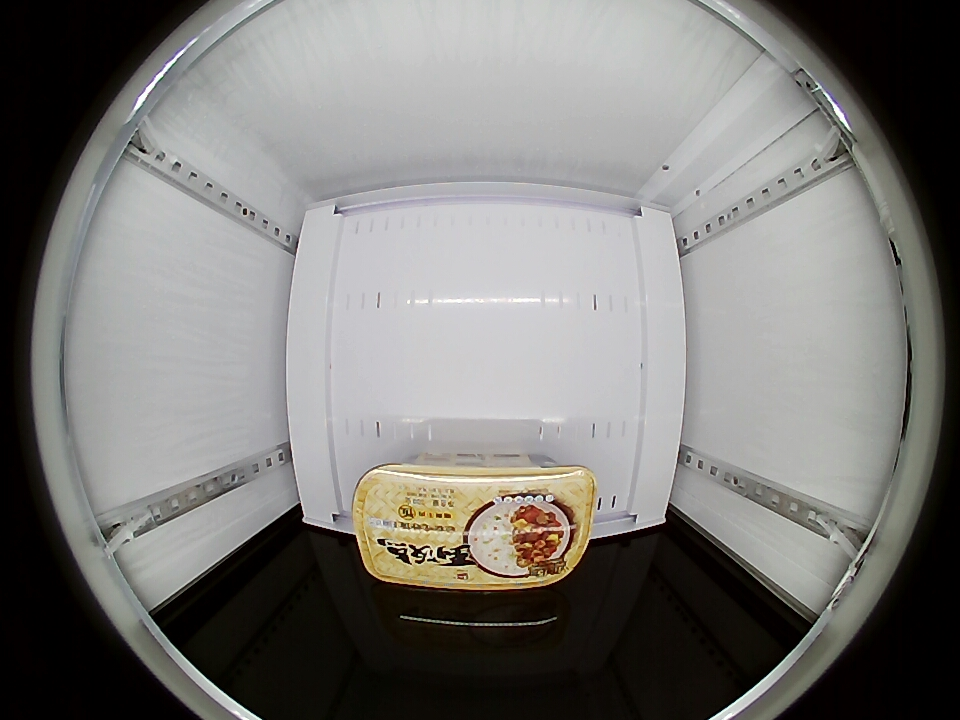daofandian2: (352, 459, 599, 592)
